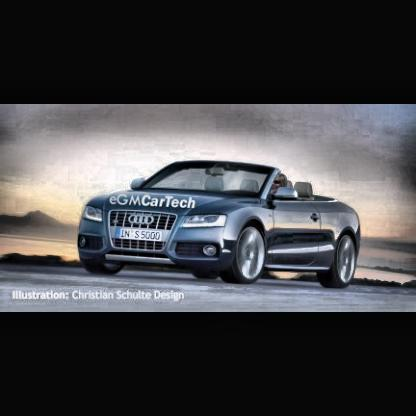Audi RS 4 Convertible 2008: (78, 160, 363, 292)
